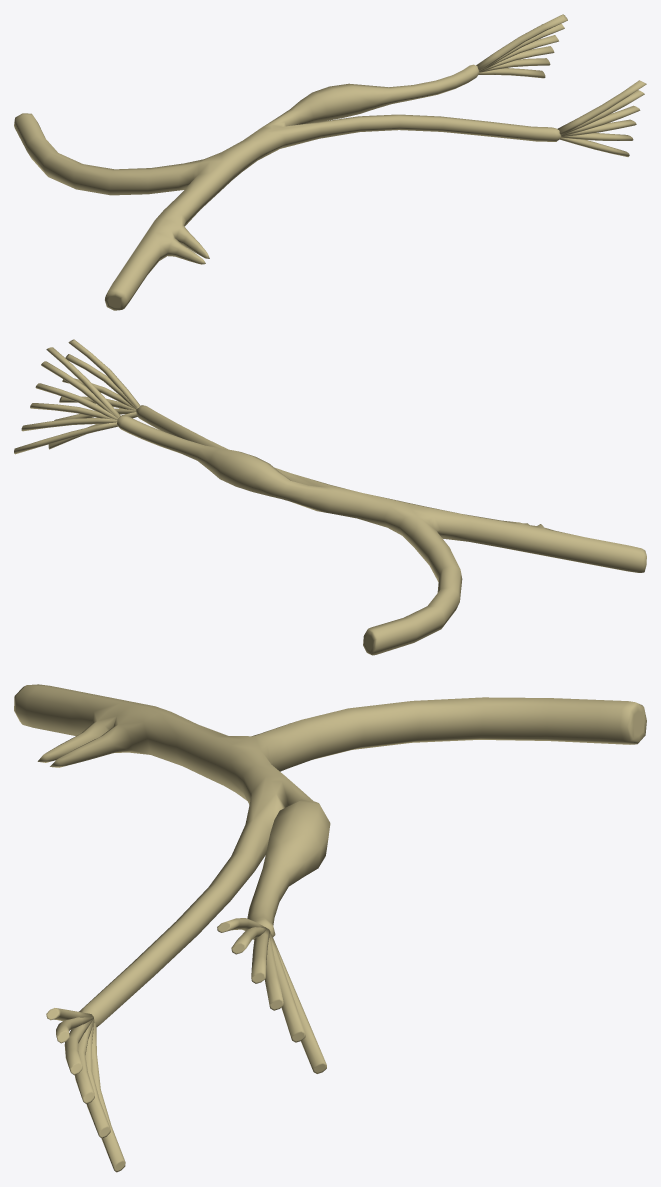
Rendered from Nerves_L9.FBX.
The picture shows the model from 3 angles, top to bottom: view 1: azimuth 30°, elevation 25°; view 2: azimuth 150°, elevation 25°; view 3: azimuth 270°, elevation 25°; orthographic projection. The views are drawn at different scales.
Parts seen in each view (by area): view 1: Nerves_L9; view 2: Nerves_L9; view 3: Nerves_L9.
Part boxes in pixels (<box>): Nerves_L9: <box>14,14,646,310</box>; Nerves_L9: <box>14,339,646,655</box>; Nerves_L9: <box>14,684,646,1172</box>.
Bounding box in the file's own units: 0.0353 × 0.00815 × 0.0203.
